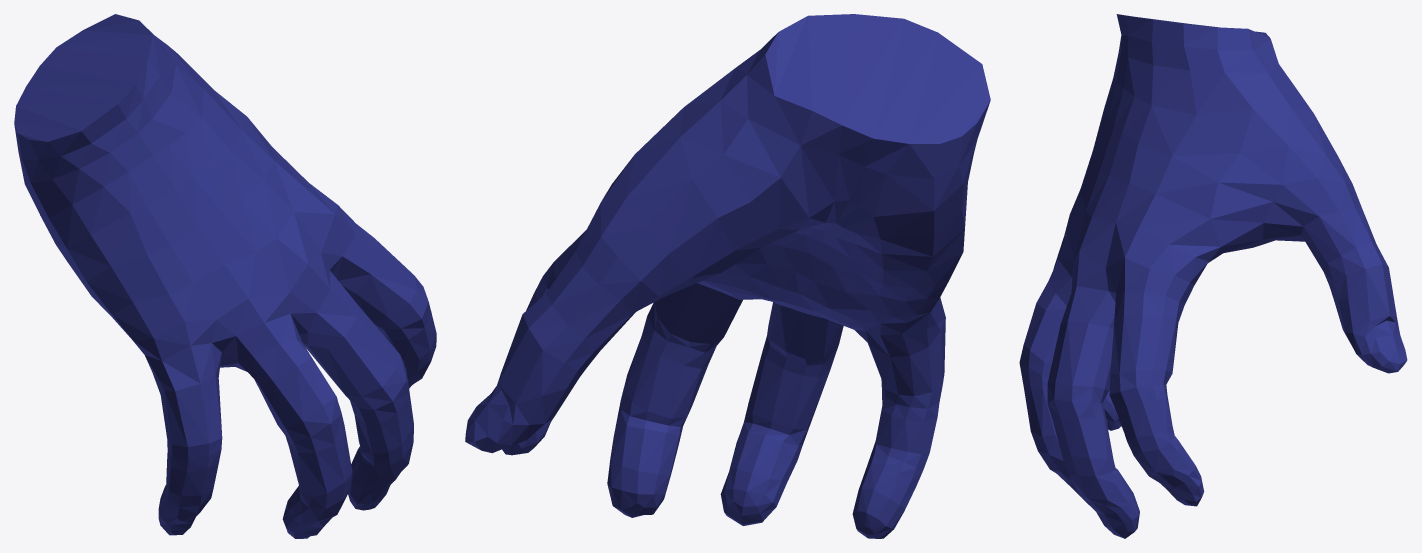
3 views of the same model, side by side, from view 1: azimuth 30°, elevation 25°; view 2: azimuth 150°, elevation 25°; view 3: azimuth 270°, elevation 25° (orthographic). The views are drawn at different scales.
Size of the model in its own units: 0.1363 by 0.1616 by 0.1306.
